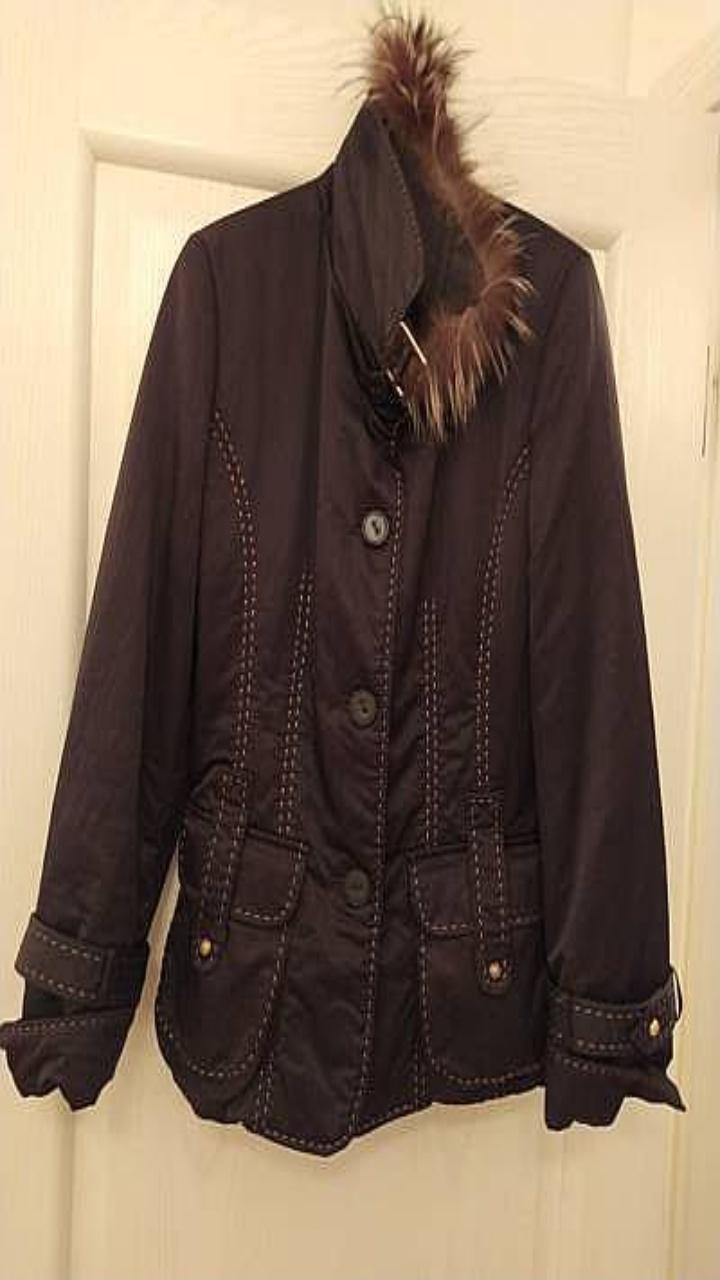Coat: (0, 14, 685, 1154)
